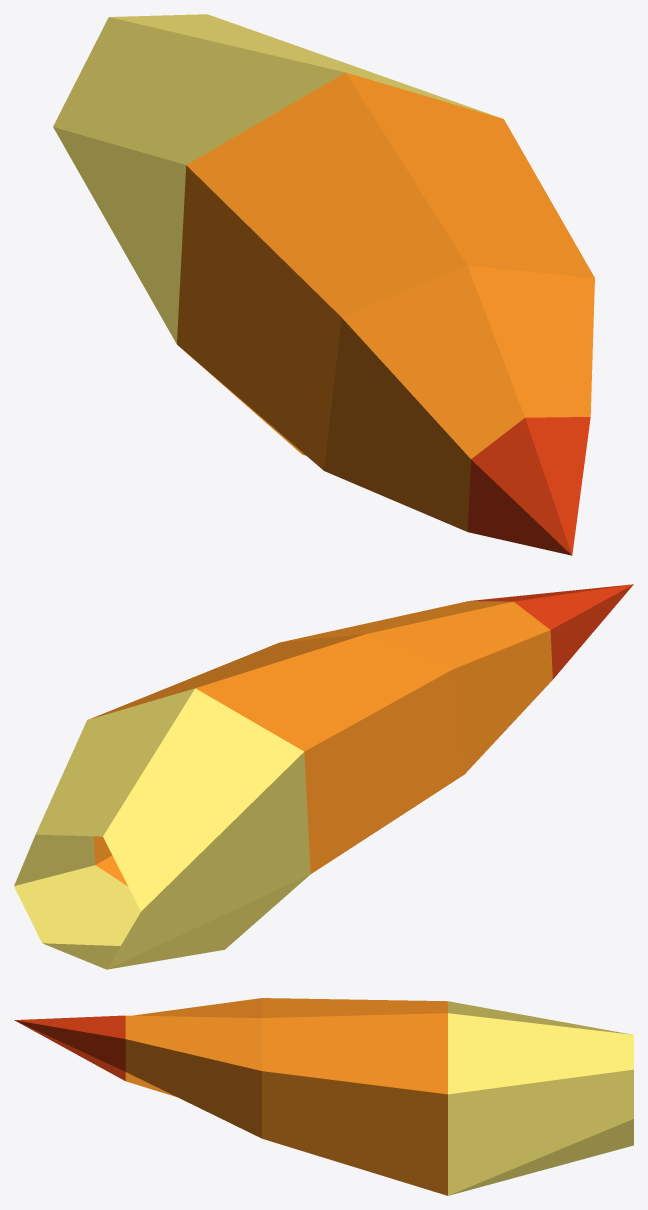
The picture shows the model from 3 angles, top to bottom: view 1: azimuth 30°, elevation 25°; view 2: azimuth 150°, elevation 25°; view 3: azimuth 270°, elevation 25°; orthographic projection. The views are drawn at different scales.
Parts seen in each view (by area): view 1: t00_g20_p0; view 2: t00_g20_p0; view 3: t00_g20_p0.
Boxes of the visible parts, x1,y1,x2,y2 form: t00_g20_p0: (53,14,594,555); t00_g20_p0: (14,584,633,969); t00_g20_p0: (14,998,633,1195).
Bounding box in the file's own units: 2.61 × 2.53 × 7.65.
